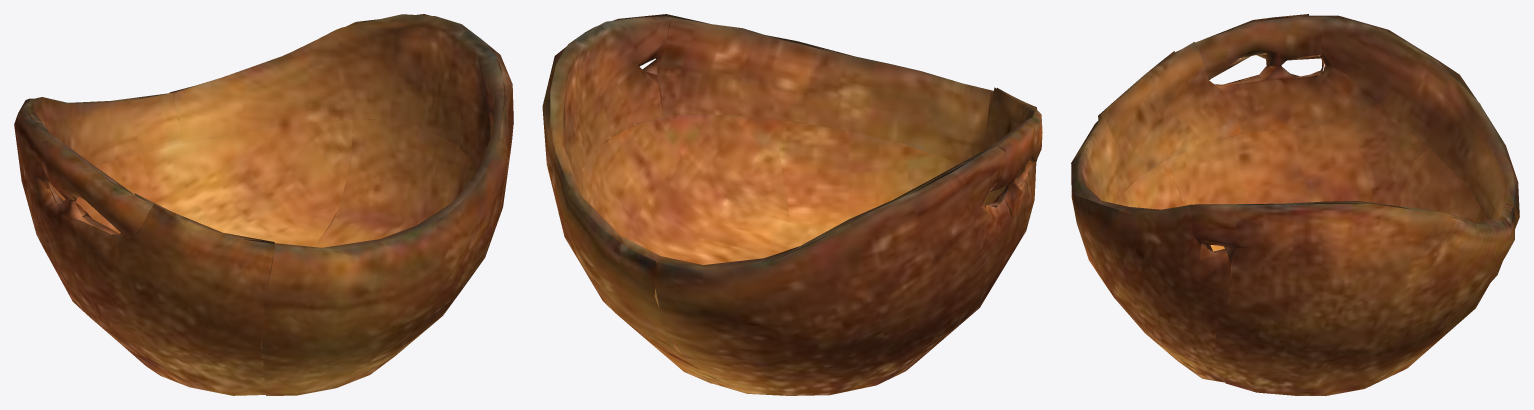
File: wooden_bowl_02.glb
3 renders of one model, left to right at view 1: azimuth 30°, elevation 25°; view 2: azimuth 150°, elevation 25°; view 3: azimuth 270°, elevation 25°, orthographic. The views are drawn at different scales.
Visible parts, largest first — view 1: wooden_bowl_02; view 2: wooden_bowl_02; view 3: wooden_bowl_02.
Boxes of the visible parts, x1=… form: wooden_bowl_02: x1=14, y1=14, x2=513, y2=395; wooden_bowl_02: x1=542, y1=14, x2=1042, y2=395; wooden_bowl_02: x1=1071, y1=14, x2=1519, y2=395.
Bounding box in the file's own units: 0.1302 × 0.0735 × 0.1243.
1 material, 1 textured.
